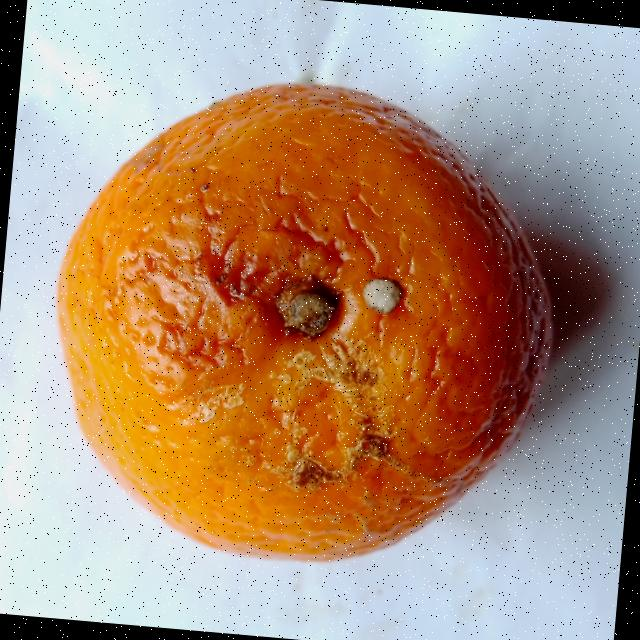Rotten: (31, 60, 576, 586)
